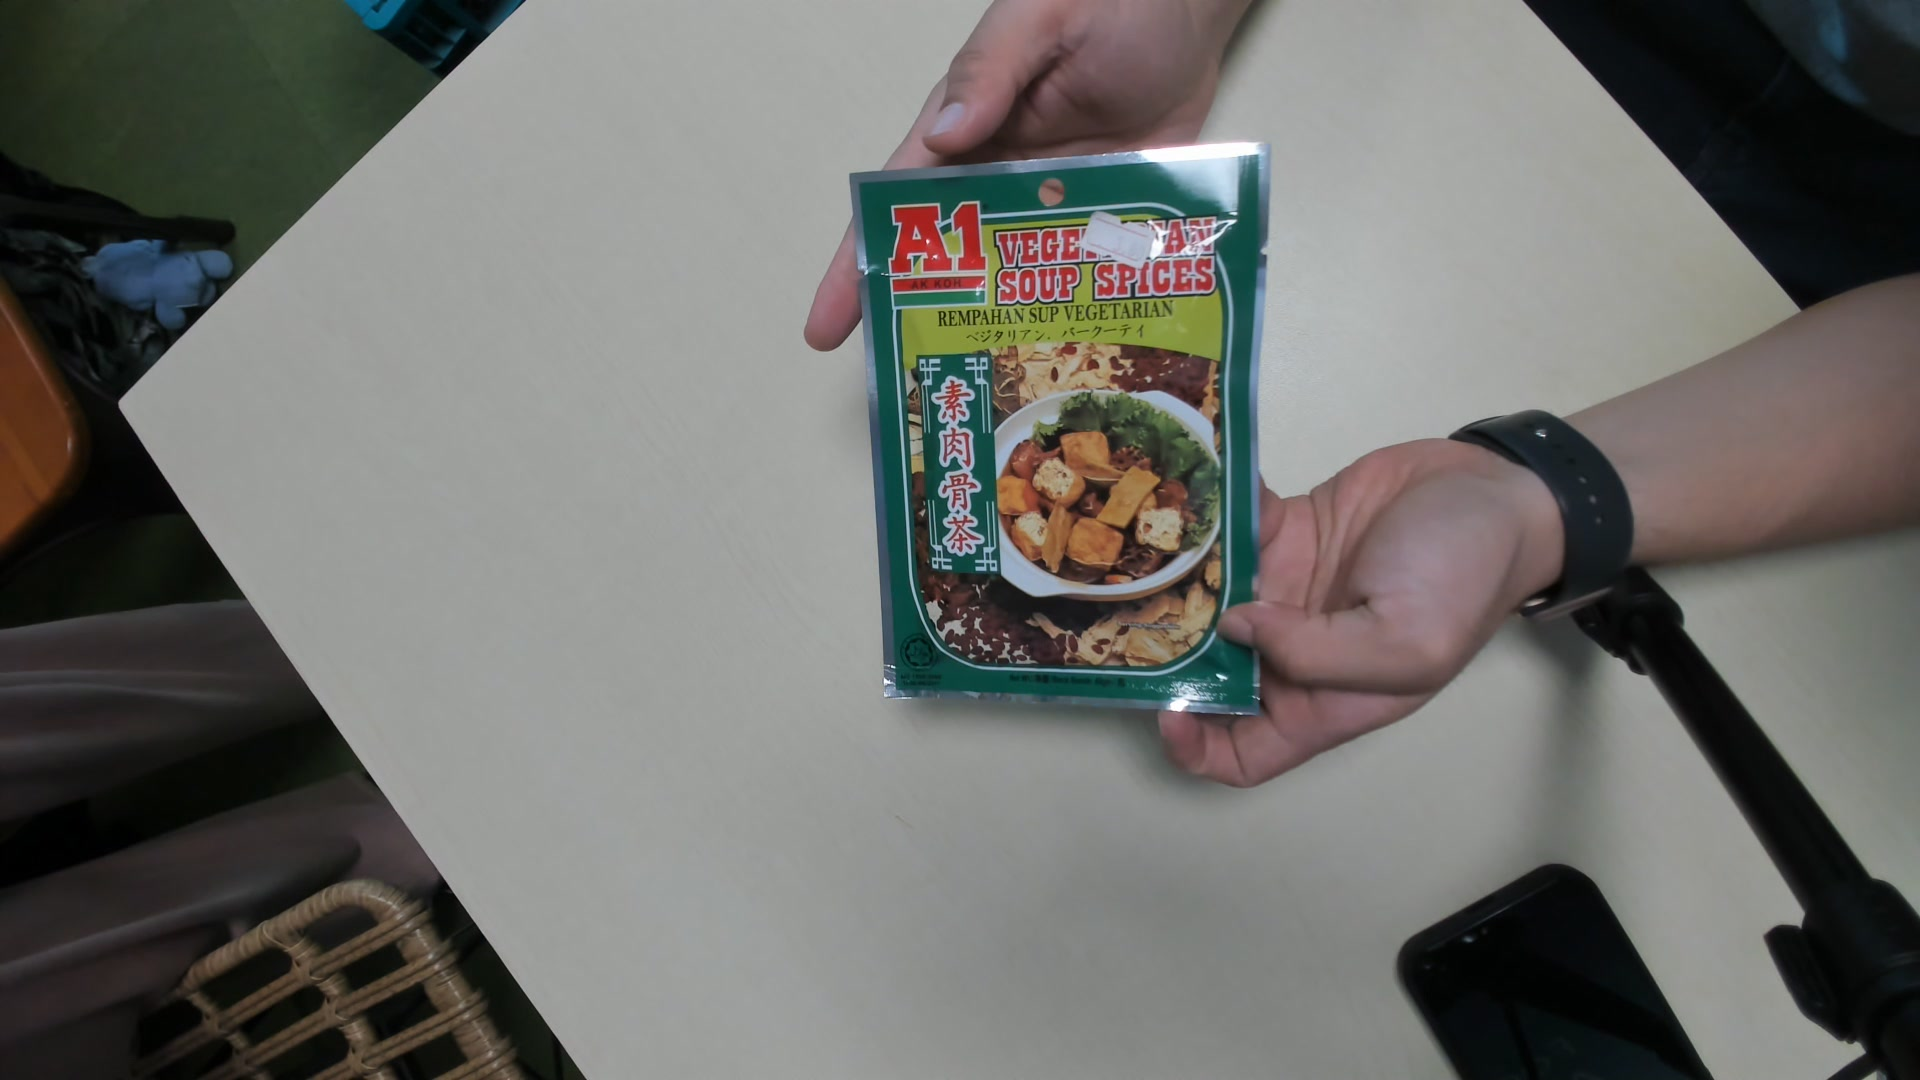OtherSauceDressing_0-99g_NonHalal_NonHealthy: (853, 144, 1269, 712)
